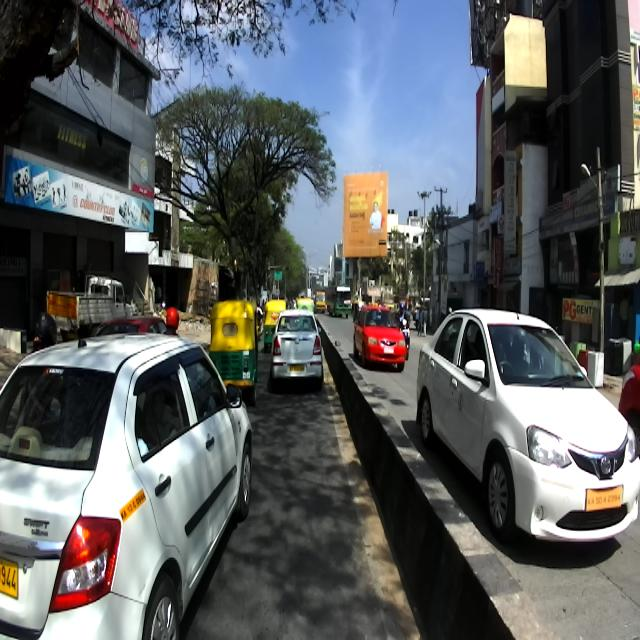car ahead at: (0, 317, 256, 640), (420, 302, 640, 554), (266, 300, 328, 384)
